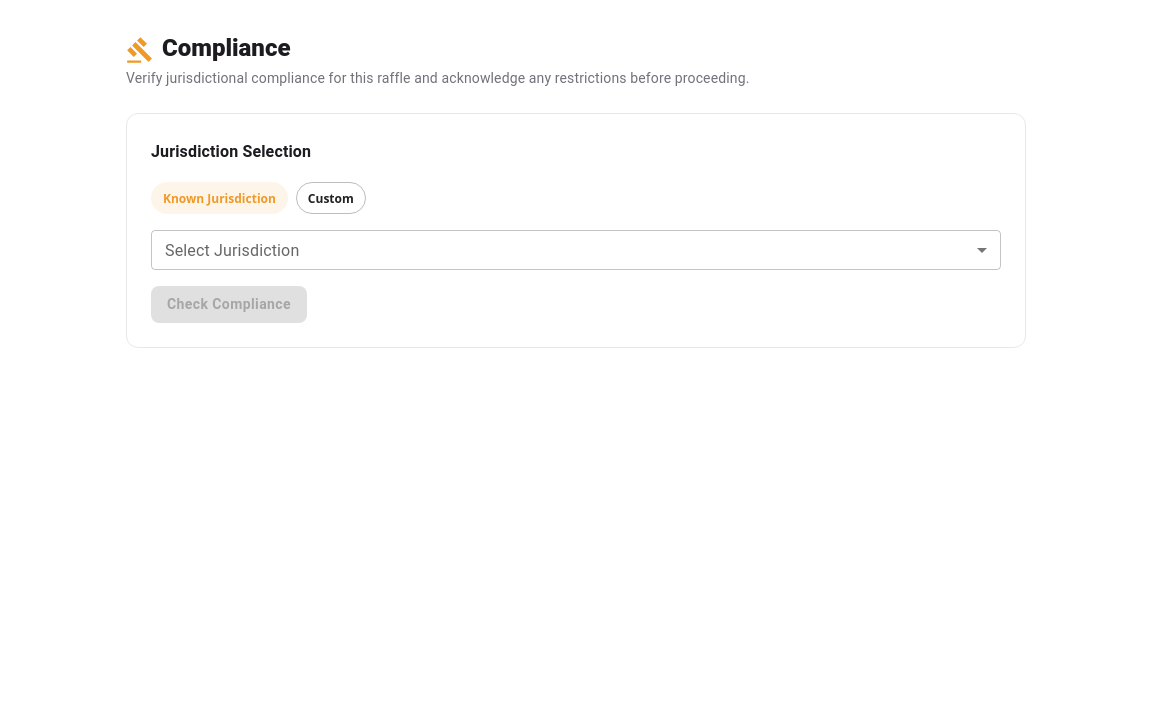
Test: CompliancePanel › enables confirm button only after checkbox is checked
The image size is (1152, 720).
Click the button "Custom".
click(331, 198)  # box [296,182,366,214]
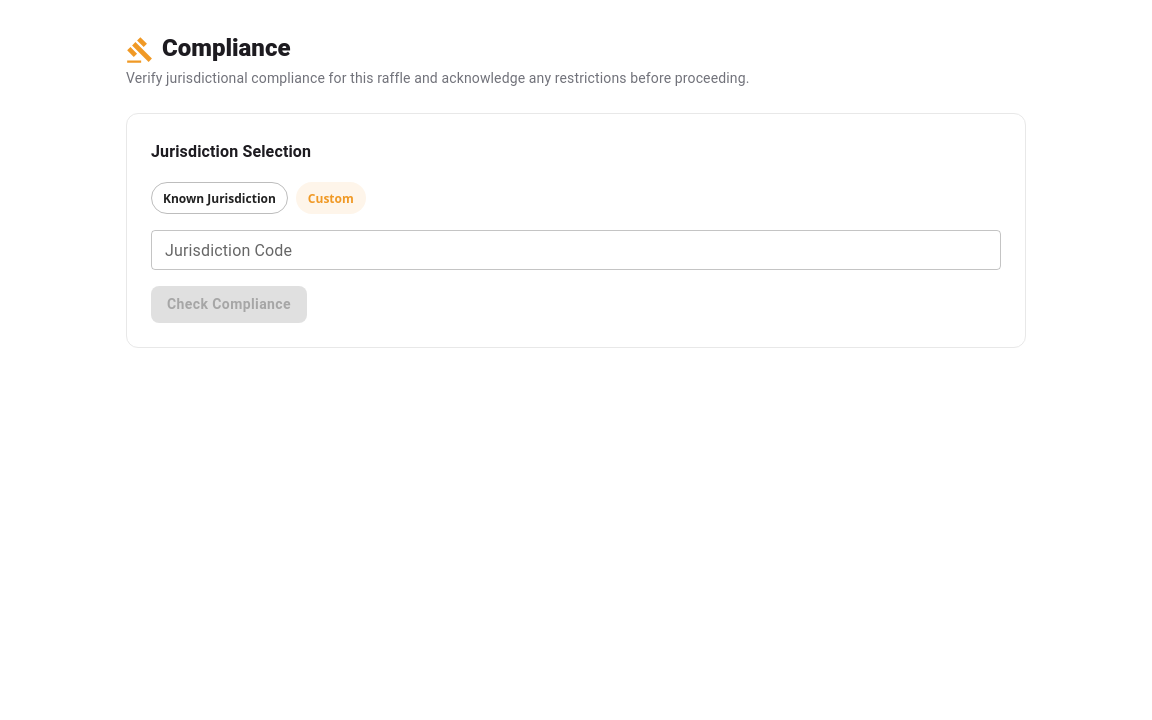
Type "US-NY" into the field labelled "Jurisdiction Code".
click(576, 250); type("US-NY")  # box [151,230,1001,270]
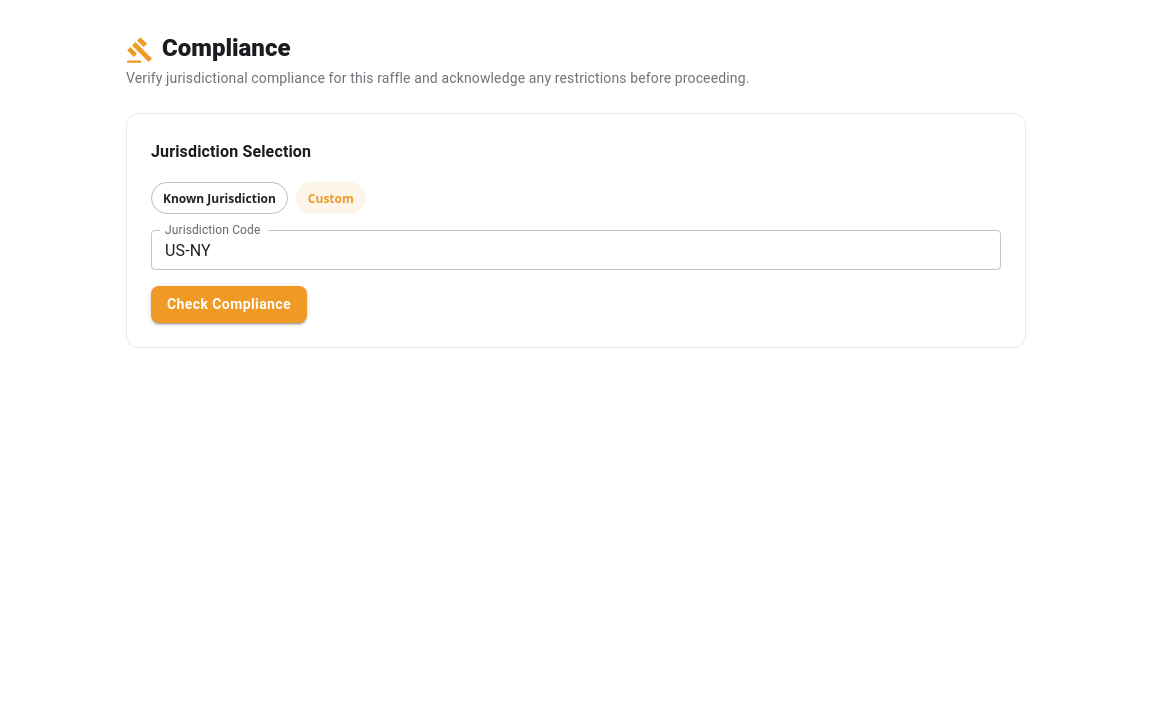
Click the button "Check Compliance".
click(229, 304)  # box [151,286,307,322]
(page scrolled)
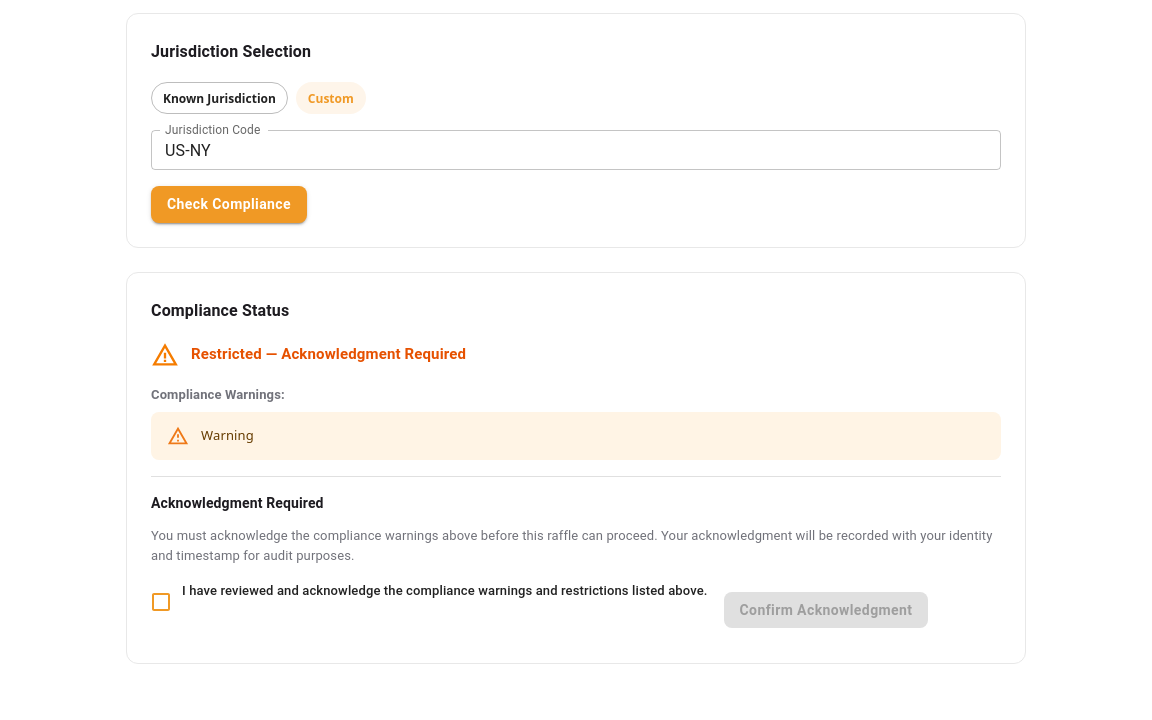
Expected: the button "Confirm Acknowledgment" is disabled, [724,592,928,628]
Check the acknowledgment checkbox
Click the checkbox.
click(445, 591)  # box [140,581,708,623]
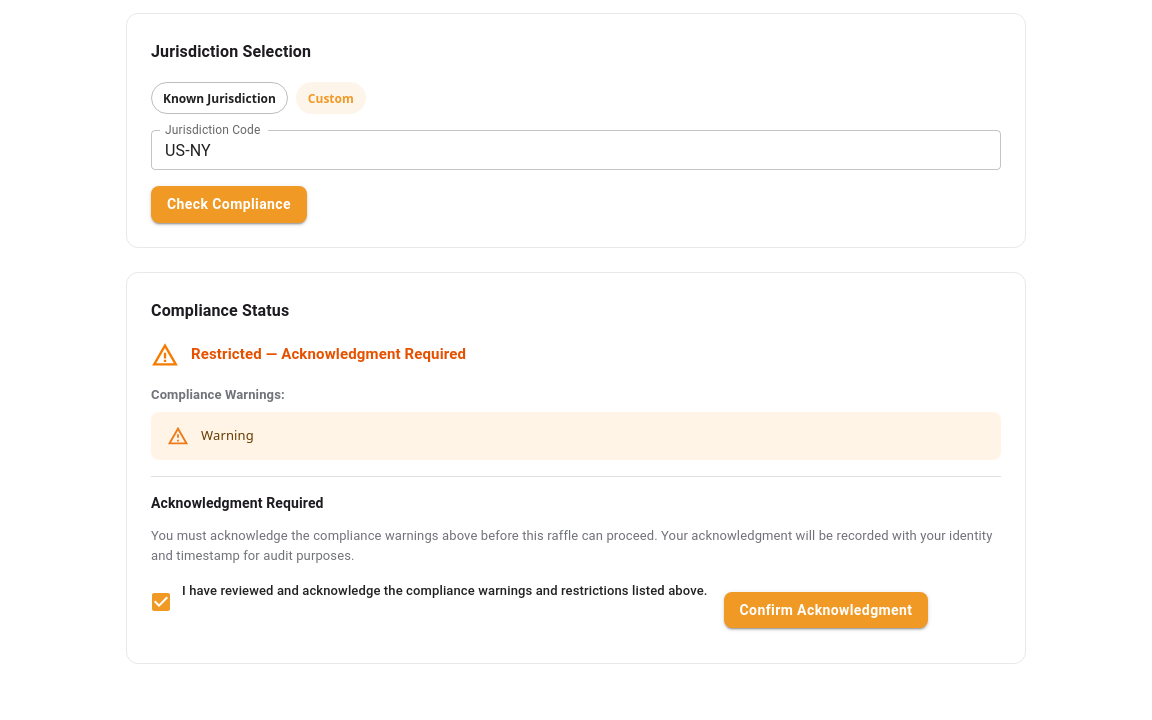
Expected: the button "Confirm Acknowledgment" is enabled, [724,592,928,628]
